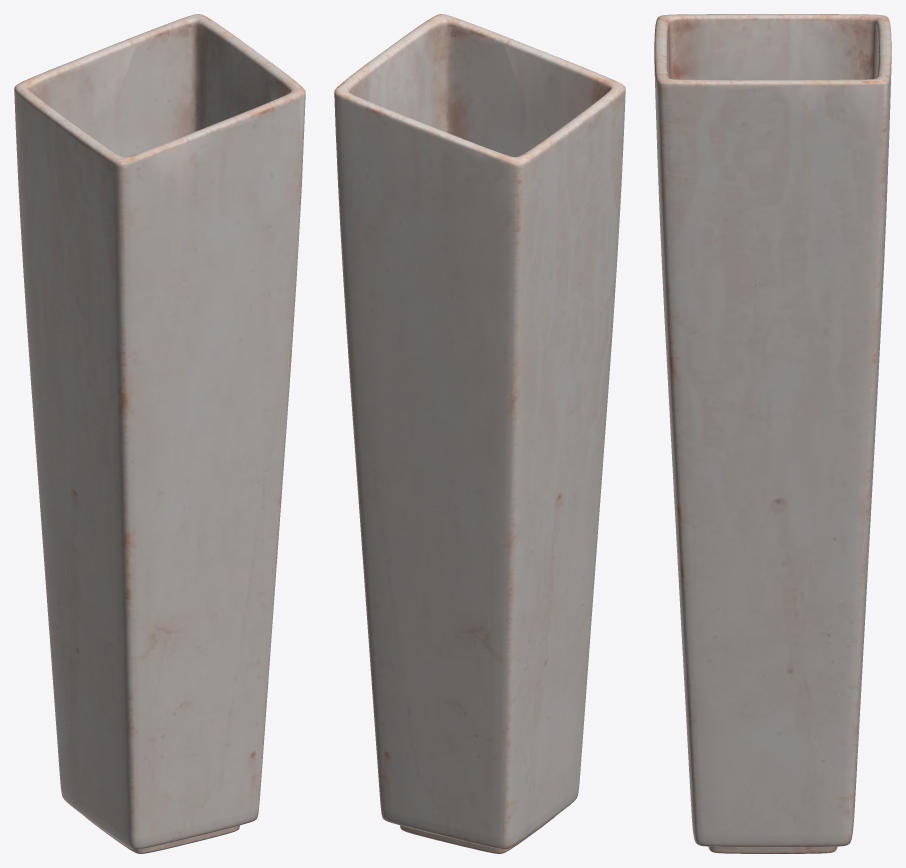
The model's file is ceramic_vase_03.glb.
3 views of the same model, side by side, from view 1: azimuth 30°, elevation 25°; view 2: azimuth 150°, elevation 25°; view 3: azimuth 270°, elevation 25° (orthographic). The views are drawn at different scales.
Visible parts, largest first — view 1: ceramic_vase_03; view 2: ceramic_vase_03; view 3: ceramic_vase_03.
Boxes of the visible parts, box(x1,y1,x2,y2) form: ceramic_vase_03: box(14, 14, 305, 853); ceramic_vase_03: box(334, 14, 625, 853); ceramic_vase_03: box(654, 14, 891, 853).
Bounding box in the file's own units: 0.1123 × 0.4144 × 0.1123.
Materials: 1 (1 with a texture image).
